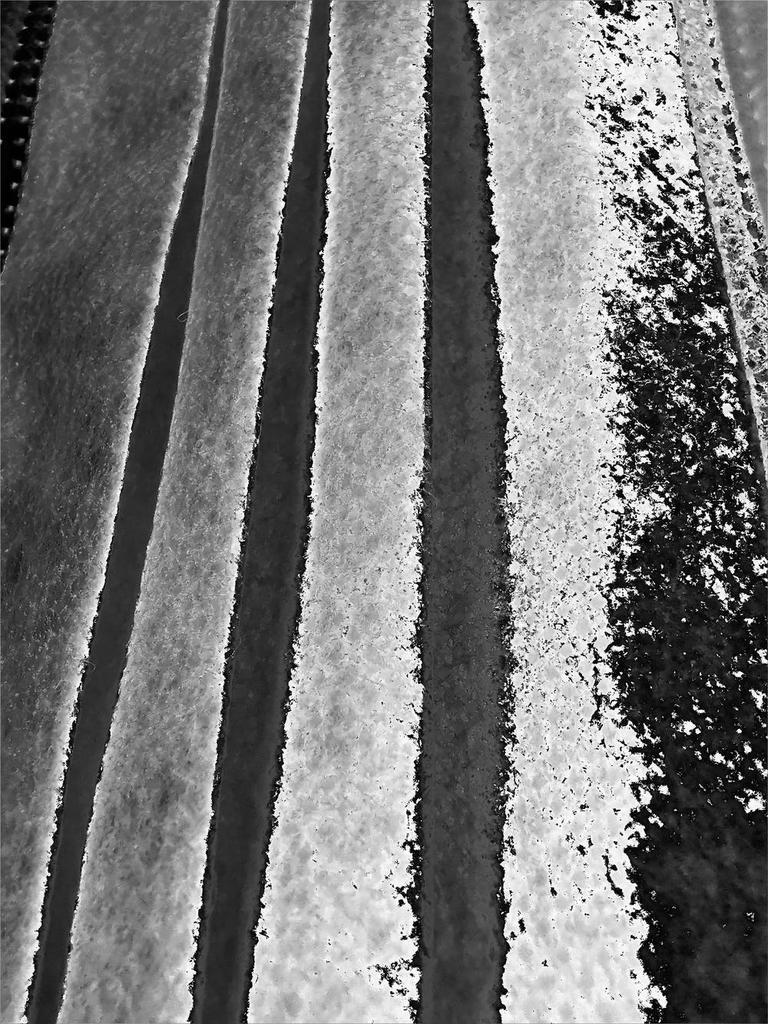High GSM: (3, 3, 767, 1024)
